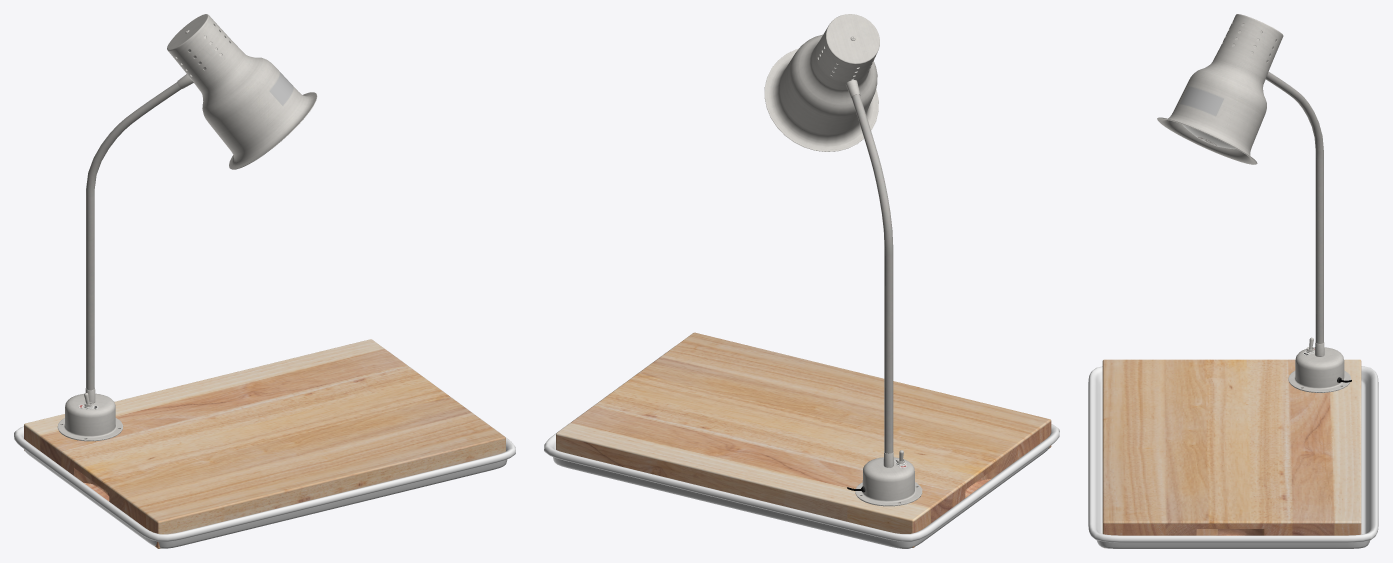
3 views of the same model, side by side, from view 1: azimuth 30°, elevation 25°; view 2: azimuth 150°, elevation 25°; view 3: azimuth 270°, elevation 25° (orthographic). The views are drawn at different scales.
Parts seen in each view (by area): view 1: SKU_164WCB1624, 177HL24SS, 407BUNFULL; view 2: SKU_164WCB1624, 177HL24SS, 407BUNFULL; view 3: SKU_164WCB1624, 177HL24SS, 407BUNFULL.
Part boxes in pixels (x1,y1,x2,y2): SKU_164WCB1624: (24,339,505,548); 177HL24SS: (57,14,317,441); 407BUNFULL: (14,352,515,548); SKU_164WCB1624: (556,332,1051,547); 177HL24SS: (764,14,922,506); 407BUNFULL: (544,348,1059,548); SKU_164WCB1624: (1102,359,1361,548); 177HL24SS: (1157,14,1351,392); 407BUNFULL: (1088,366,1378,548).
Bounding box in the file's own units: 63.96 × 73.71 × 45.24.
Materials: 4 (4 with a texture image).
